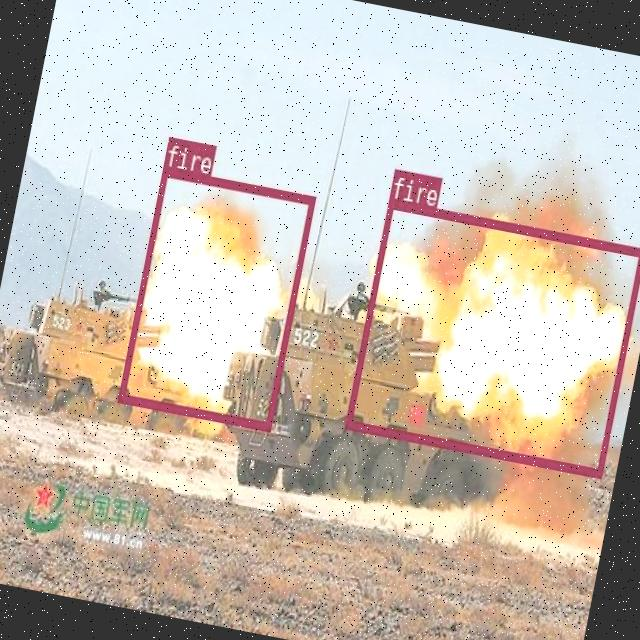fire: (345, 198, 640, 475), (116, 167, 315, 430)
